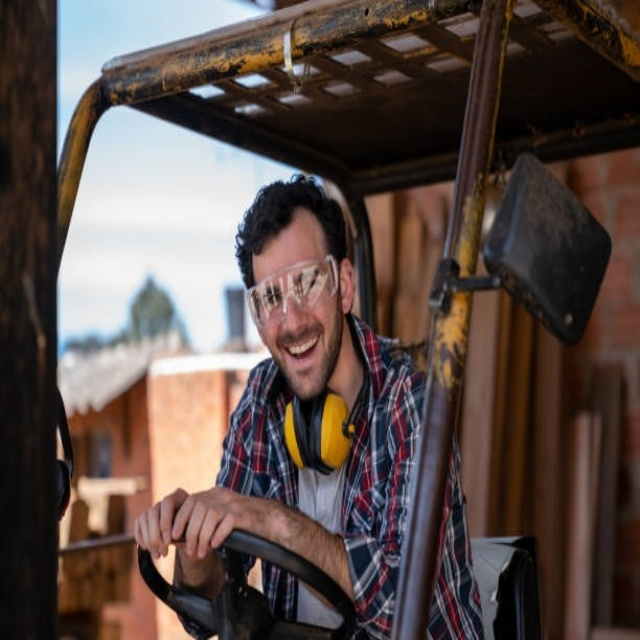Gafas: (246, 255, 338, 329)
Sin_guantes: (174, 480, 251, 569), (130, 478, 178, 565)
Sin_mascara: (277, 329, 327, 378)
